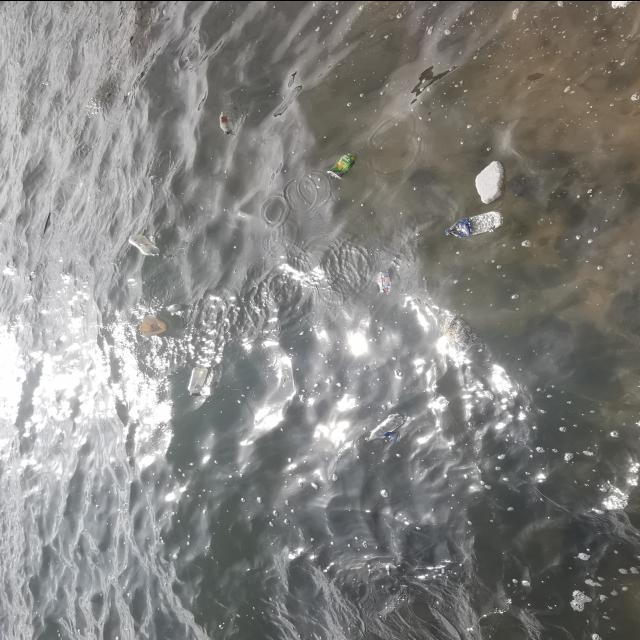can: (328, 151, 358, 180)
foam: (473, 160, 503, 204), (611, 1, 640, 10)
plastic bottle: (445, 212, 507, 238), (367, 413, 405, 441), (128, 234, 162, 257), (188, 367, 210, 396), (221, 113, 234, 134), (168, 304, 184, 311)
